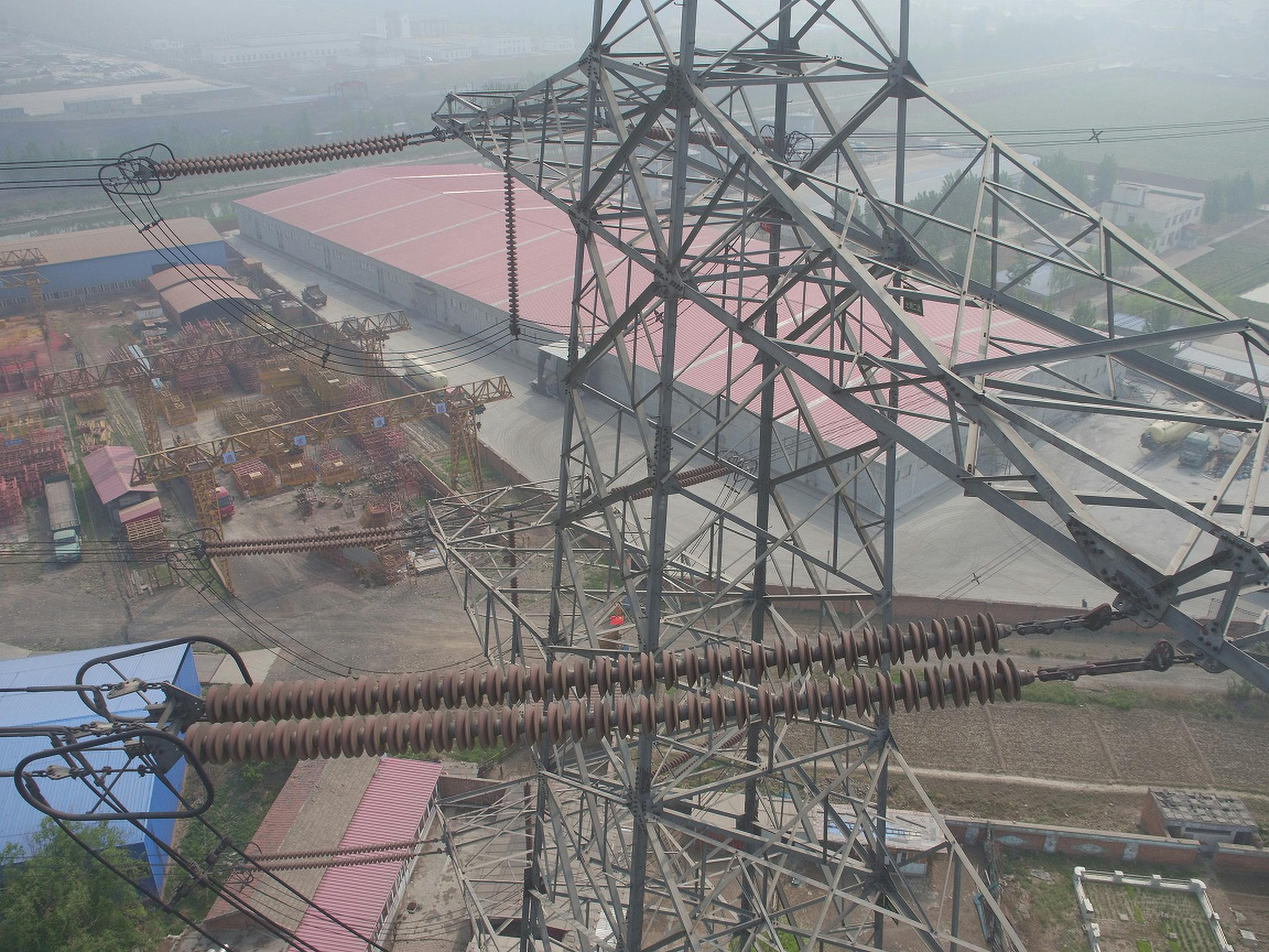insulator: (180, 609, 1026, 772), (150, 129, 411, 183), (203, 524, 397, 561), (239, 839, 420, 874), (651, 725, 748, 786), (609, 461, 736, 504), (499, 132, 522, 324), (642, 124, 776, 152)
